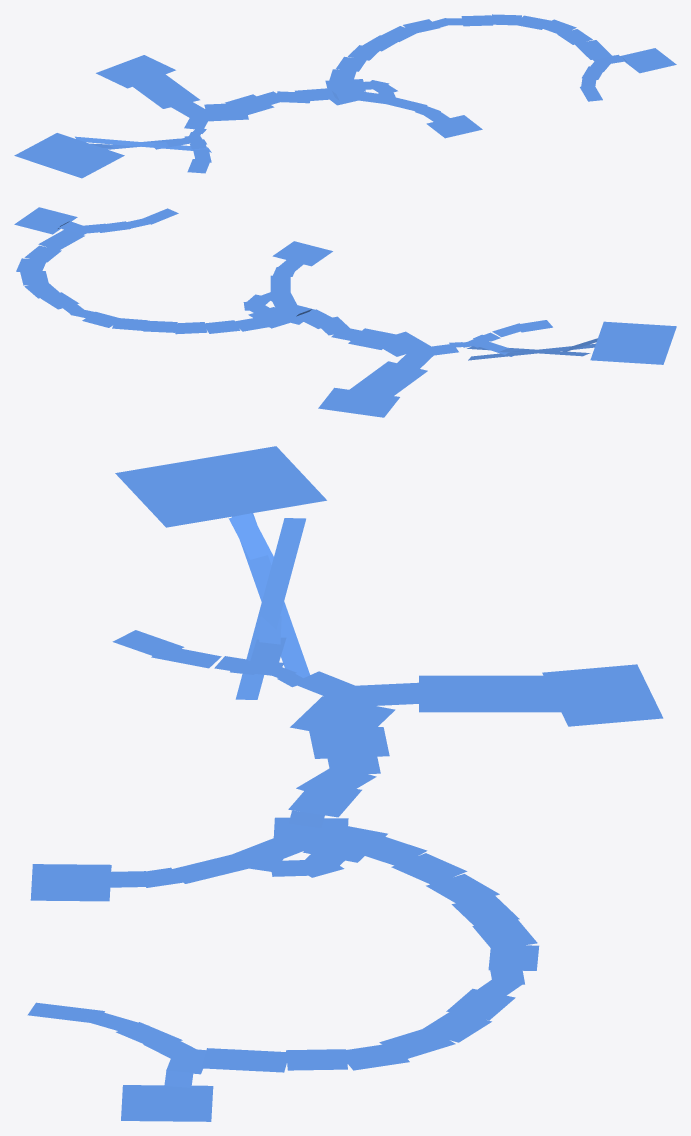
Rendered from WaterFlow.fbx.
The picture shows the model from 3 angles, top to bottom: view 1: azimuth 30°, elevation 25°; view 2: azimuth 150°, elevation 25°; view 3: azimuth 270°, elevation 25°; orthographic projection. The views are drawn at different scales.
Visible parts, largest first — view 1: Water__34_, Water__4_, Water__33_, Water__28_, Water__14_, Water__26_, Water__19_, Water__90_, Water__85_, Water__76_, Water__5_, Water__88_ (+15 smaller); view 2: Water__34_, Water__4_, Water__33_, Water__28_, Water__14_, Water__26_, Water__76_, Water__90_, Water__85_, Water__88_, Water__5_, Water__98_ (+15 smaller); view 3: Water__34_, Water__4_, Water__33_, Water__28_, Water__19_, Water__14_, Water__26_, Water__98_, Water__76_, Water__90_, Water__85_, Water__88_ (+18 smaller).
Part boxes in pixels (bbox=[...]): Water__34_: bbox=[14, 133, 124, 178]; Water__4_: bbox=[125, 72, 199, 108]; Water__33_: bbox=[96, 55, 175, 88]; Water__28_: bbox=[620, 48, 676, 73]; Water__14_: bbox=[426, 115, 482, 138]; Water__26_: bbox=[204, 102, 248, 121]; Water__19_: bbox=[75, 136, 211, 152]; Water__90_: bbox=[166, 98, 210, 117]; Water__85_: bbox=[342, 90, 394, 104]; Water__76_: bbox=[325, 79, 365, 93]; Water__5_: bbox=[295, 88, 332, 101]; Water__88_: bbox=[245, 91, 286, 108]; Water__34_: bbox=[590, 321, 676, 364]; Water__4_: bbox=[348, 361, 427, 400]; Water__33_: bbox=[318, 387, 399, 417]; Water__28_: bbox=[14, 207, 77, 234]; Water__14_: bbox=[272, 241, 332, 266]; Water__26_: bbox=[371, 331, 430, 356]; Water__76_: bbox=[248, 307, 296, 328]; Water__90_: bbox=[392, 350, 433, 372]; Water__85_: bbox=[268, 291, 301, 314]; Water__88_: bbox=[331, 327, 375, 343]; Water__5_: bbox=[294, 309, 339, 328]; Water__98_: bbox=[468, 343, 595, 360]; Water__34_: bbox=[115, 446, 326, 527]; Water__4_: bbox=[419, 675, 571, 712]; Water__33_: bbox=[542, 664, 663, 726]; Water__28_: bbox=[121, 1085, 213, 1121]; Water__19_: bbox=[235, 518, 305, 699]; Water__14_: bbox=[30, 864, 111, 901]; Water__26_: bbox=[290, 696, 395, 740]; Water__98_: bbox=[231, 513, 309, 677]; Water__76_: bbox=[303, 823, 387, 862]; Water__90_: bbox=[350, 682, 441, 706]; Water__85_: bbox=[228, 828, 328, 869]; Water__88_: bbox=[325, 744, 380, 775].
Size of the model in its own units: 214430 by 11539 by 94509.
